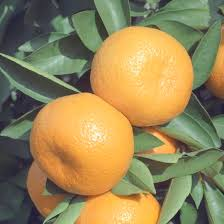orange: (89, 22, 195, 126), (25, 92, 134, 190), (70, 178, 166, 224)
